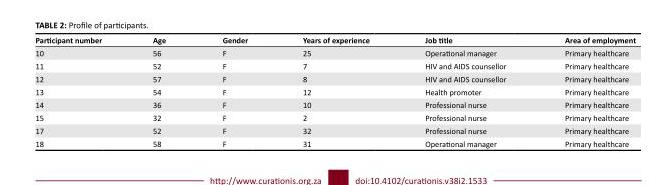table: (34, 34, 635, 148)
table column: (396, 34, 534, 148), (274, 34, 396, 148), (534, 34, 635, 148), (34, 34, 126, 148), (193, 34, 274, 148), (126, 34, 193, 148)
table column header: (34, 34, 635, 46)
table row: (34, 46, 635, 59), (34, 59, 635, 72), (34, 72, 635, 85), (34, 85, 635, 98), (34, 98, 635, 111), (34, 111, 635, 124), (34, 124, 635, 137), (34, 34, 635, 46), (34, 137, 635, 148)
